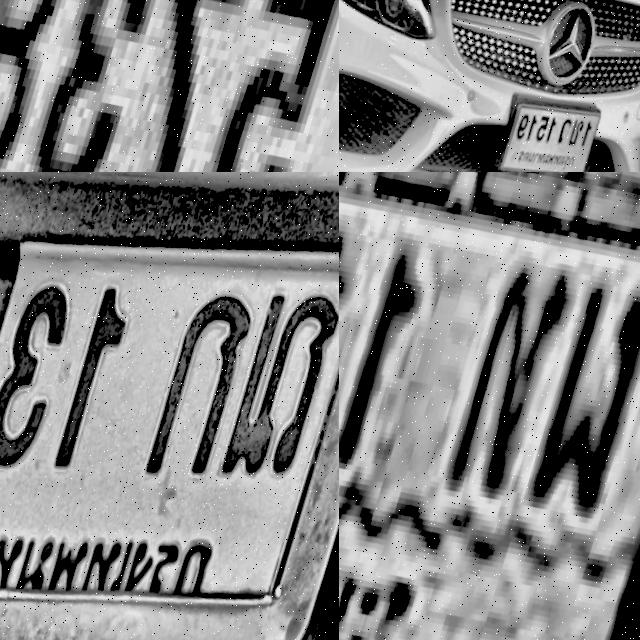license-plate: (0, 172, 339, 640), (339, 172, 640, 640), (0, 0, 339, 172), (502, 89, 611, 172)
